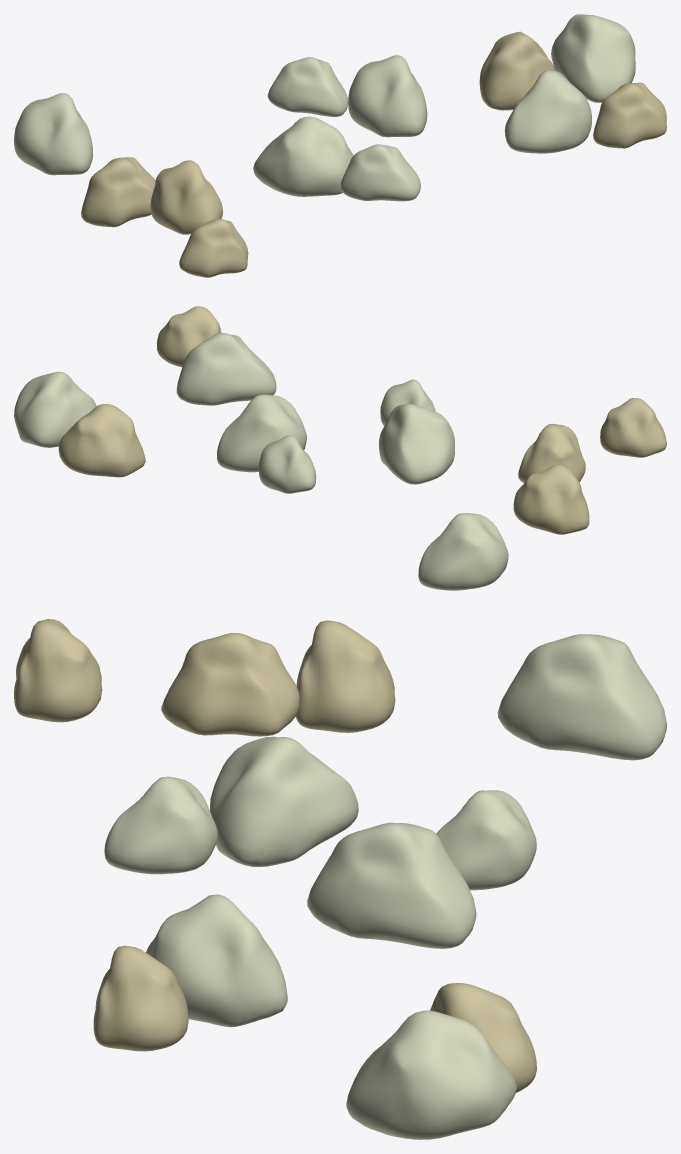
Rendered from lakestones.fbx.
3 renders of one model, top to bottom at view 1: azimuth 30°, elevation 25°; view 2: azimuth 150°, elevation 25°; view 3: azimuth 270°, elevation 25°, orthographic. The views are drawn at different scales.
Visible parts, largest first — view 1: polySurface80; view 2: polySurface80; view 3: polySurface80.
Boxes of the visible parts, x1,y1,x2,y2 form: polySurface80: (14, 14, 666, 277); polySurface80: (14, 306, 666, 590); polySurface80: (14, 619, 666, 1139).
Bounding box in the file's own units: 14.67 × 2.34 × 9.06.
